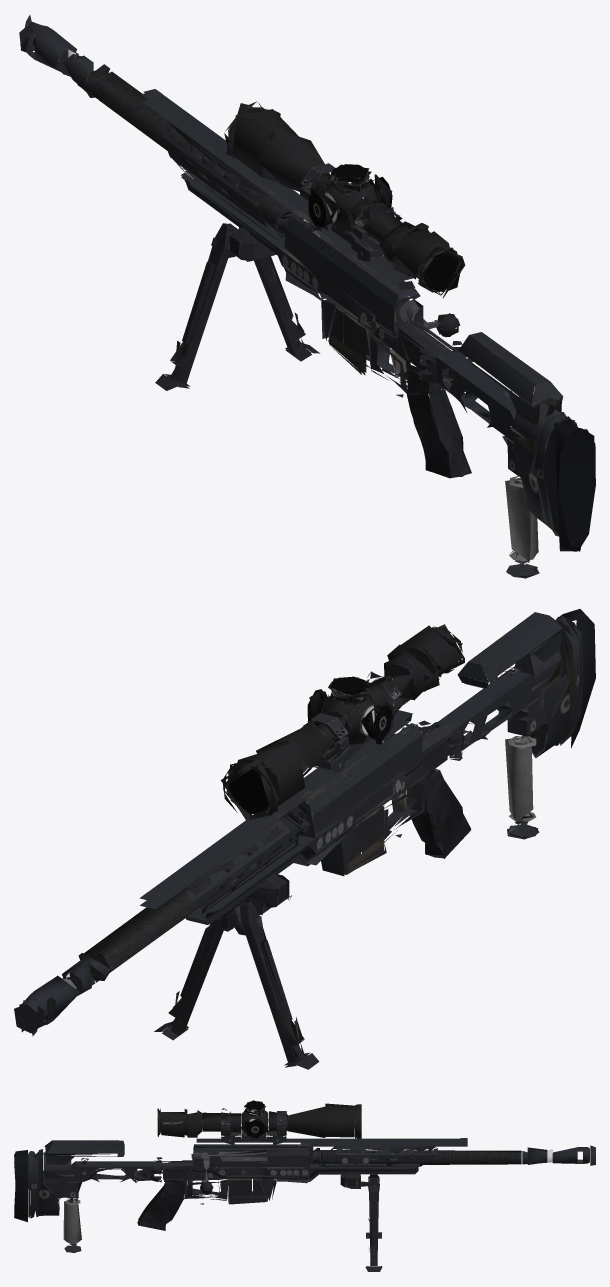
File: arma_tp.glb
The picture shows the model from 3 angles, top to bottom: view 1: azimuth 30°, elevation 25°; view 2: azimuth 150°, elevation 25°; view 3: azimuth 270°, elevation 25°; orthographic projection. The views are drawn at different scales.
Visible parts, largest first — view 1: cuerpo, carg; view 2: cuerpo, carg; view 3: cuerpo, carg.
Boxes of the visible parts, x1,y1,x2,y2 form: cuerpo: [19, 15, 595, 578]; carg: [296, 273, 380, 375]; cuerpo: [14, 609, 595, 1069]; carg: [303, 797, 390, 876]; cuerpo: [14, 1100, 595, 1271]; carg: [226, 1170, 306, 1204].
Bounding box in the file's own units: 0.1942 × 0.3373 × 1.2.
6 materials, 6 textured.
